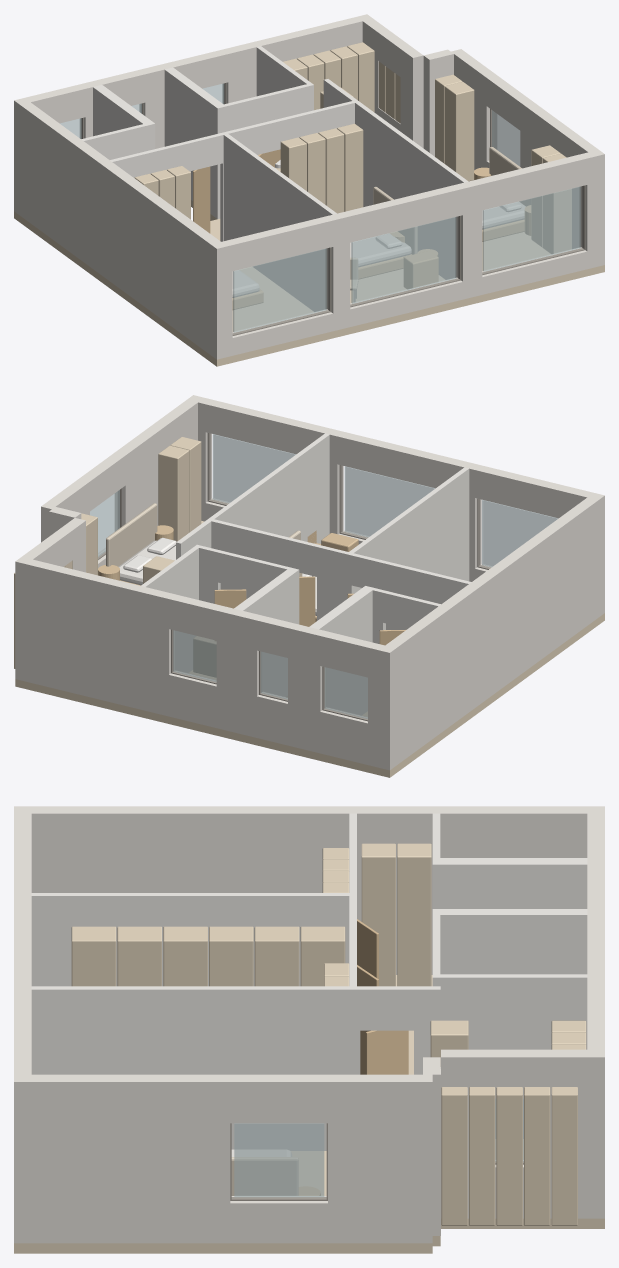
Rendered from second-floor-wood.glb.
3 views of the same model, one above another, from view 1: azimuth 30°, elevation 25°; view 2: azimuth 150°, elevation 25°; view 3: azimuth 270°, elevation 25° (orthographic). The views are drawn at different scales.
Visible parts, largest first — view 1: F2_ExtWall_07_P00, F2_Slab, F2_Bed2_Guest_P00, F2_Guest_Master_P00, F2_ExtWall_00_window_02_Glass, F2_ExtWall_00_window_03_Glass, F2_ExtWall_00_window_01_Glass, F2_ExtWall_06_P00, F2_Stair_GuestBath_P00, F2_ExtWall_00_Header_02, F2_ExtWall_00_Header_03, F2_ExtWall_01_P00 (+55 smaller); view 2: F2_ExtWall_07_P00, F2_ExtWall_06_P00, F2_Bed2_Guest_P00, F2_Guest_Master_P00, F2_ExtWall_06_P01, F2_Slab, F2_ExtWall_01_P00, F2_ExtWall_06_P02, F2_ExtWall_00_Header_02, F2_ExtWall_00_window_02_Glass, F2_ExtWall_00_Header_03, F2_LeftBath_Stair_P00 (+43 smaller); view 3: F2_ExtWall_07_P00, F2_ExtWall_01_P00, F2_Guest_Master_P00, F2_ExtWall_01_P01, F2_Bed2_Guest_P00, F2_Stair_GuestBath_P00, F2_GuestBath_Closet_P00, F2_LeftBath_Stair_P00, F2_Slab, F2_ExtWall_01_window_01_Glass, F2_ExtWall_05_P01, F2_Bed2_West_Cabinet_M02 (+32 smaller).
Part boxes in pixels (x1=…): F2_ExtWall_07_P00: x1=14, y1=98, x2=227, y2=358; F2_Slab: x1=14, y1=200, x2=604, y2=366; F2_Bed2_Guest_P00: x1=221, y1=132, x2=336, y2=311; F2_Guest_Master_P00: x1=353, y1=100, x2=468, y2=279; F2_ExtWall_00_window_02_Glass: x1=351, y1=217, x2=456, y2=303; F2_ExtWall_00_window_03_Glass: x1=482, y1=186, x2=580, y2=271; F2_ExtWall_00_window_01_Glass: x1=233, y1=248, x2=326, y2=332; F2_ExtWall_06_P00: x1=222, y1=15, x2=370, y2=103; F2_Stair_GuestBath_P00: x1=164, y1=67, x2=226, y2=218; F2_ExtWall_00_Header_02: x1=345, y1=184, x2=462, y2=242; F2_ExtWall_00_Header_03: x1=476, y1=154, x2=587, y2=210; F2_ExtWall_01_P00: x1=520, y1=100, x2=603, y2=260; F2_ExtWall_07_P00: x1=378, y1=493, x2=604, y2=770; F2_ExtWall_06_P00: x1=15, y1=557, x2=174, y2=716; F2_Bed2_Guest_P00: x1=346, y1=467, x2=469, y2=599; F2_Guest_Master_P00: x1=208, y1=433, x2=329, y2=543; F2_ExtWall_06_P01: x1=216, y1=606, x2=262, y2=737; F2_Slab: x1=15, y1=521, x2=604, y2=777; F2_ExtWall_01_P00: x1=115, y1=395, x2=203, y2=530; F2_ExtWall_06_P02: x1=288, y1=623, x2=326, y2=753; F2_ExtWall_00_Header_02: x1=337, y1=432, x2=462, y2=488; F2_ExtWall_00_window_02_Glass: x1=344, y1=466, x2=435, y2=537; F2_ExtWall_00_Header_03: x1=205, y1=399, x2=322, y2=454; F2_LeftBath_Stair_P00: x1=309, y1=586, x2=374, y2=715; F2_ExtWall_07_P00: x1=14, y1=806, x2=604, y2=974; F2_ExtWall_01_P00: x1=14, y1=1074, x2=230, y2=1243; F2_Guest_Master_P00: x1=31, y1=986, x2=356, y2=1150; F2_ExtWall_01_P01: x1=328, y1=1074, x2=432, y2=1243; F2_Bed2_Guest_P00: x1=31, y1=893, x2=356, y2=986; F2_Stair_GuestBath_P00: x1=432, y1=909, x2=587, y2=974; F2_GuestBath_Closet_P00: x1=432, y1=974, x2=587, y2=1138; F2_LeftBath_Stair_P00: x1=432, y1=858, x2=587, y2=908; F2_Slab: x1=14, y1=975, x2=604, y2=1253; F2_ExtWall_01_window_01_Glass: x1=234, y1=1123, x2=324, y2=1197; F2_ExtWall_05_P01: x1=542, y1=1049, x2=604, y2=1218; F2_Bed2_West_Cabinet_M02: x1=397, y1=843, x2=431, y2=986.
Size of the model in its own units: 10.34 by 3 by 9.36.
